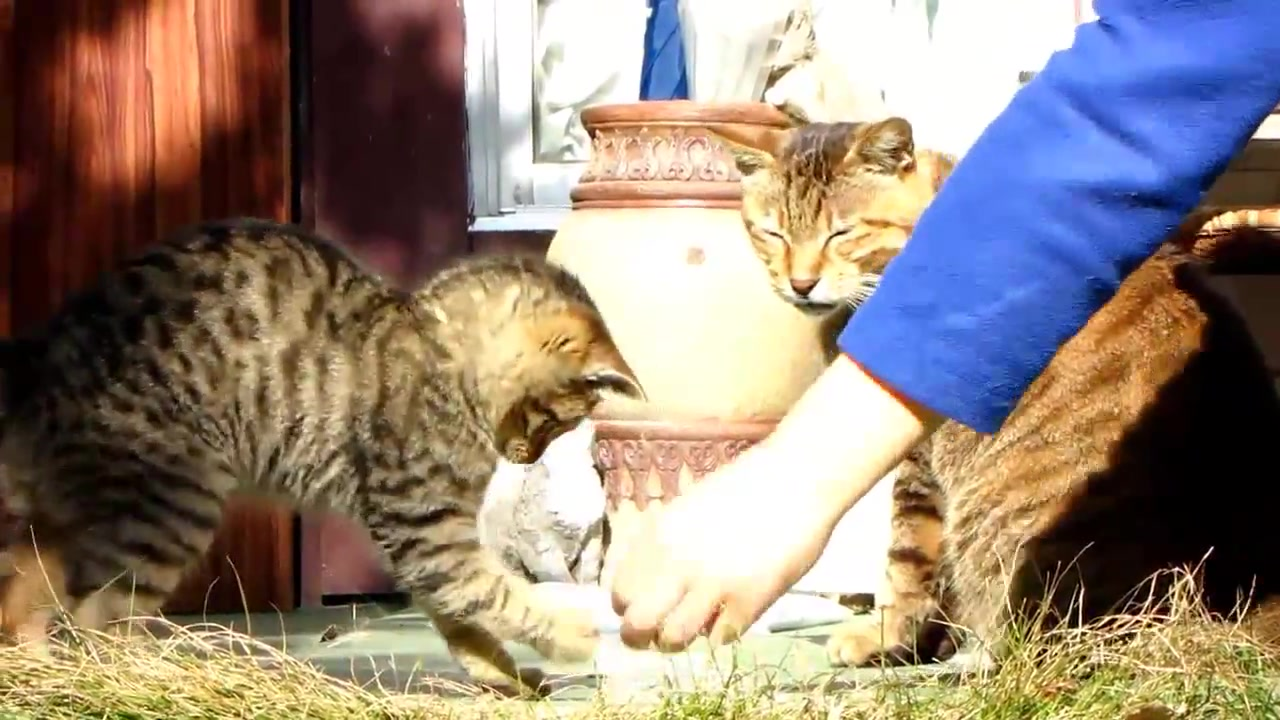cat: (709, 117, 1280, 666), (6, 210, 647, 695)
